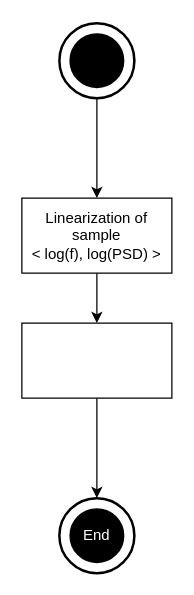
The diagram is 194 pixels wide and 595 high, and some of its shapes have lost their labels. Here are the shapes that lost their labels. From the top down, the box of each, then its label:
(58, 21, 135, 99): Start
(21, 322, 172, 398): curve_fit [ lowess | polyfit ]
